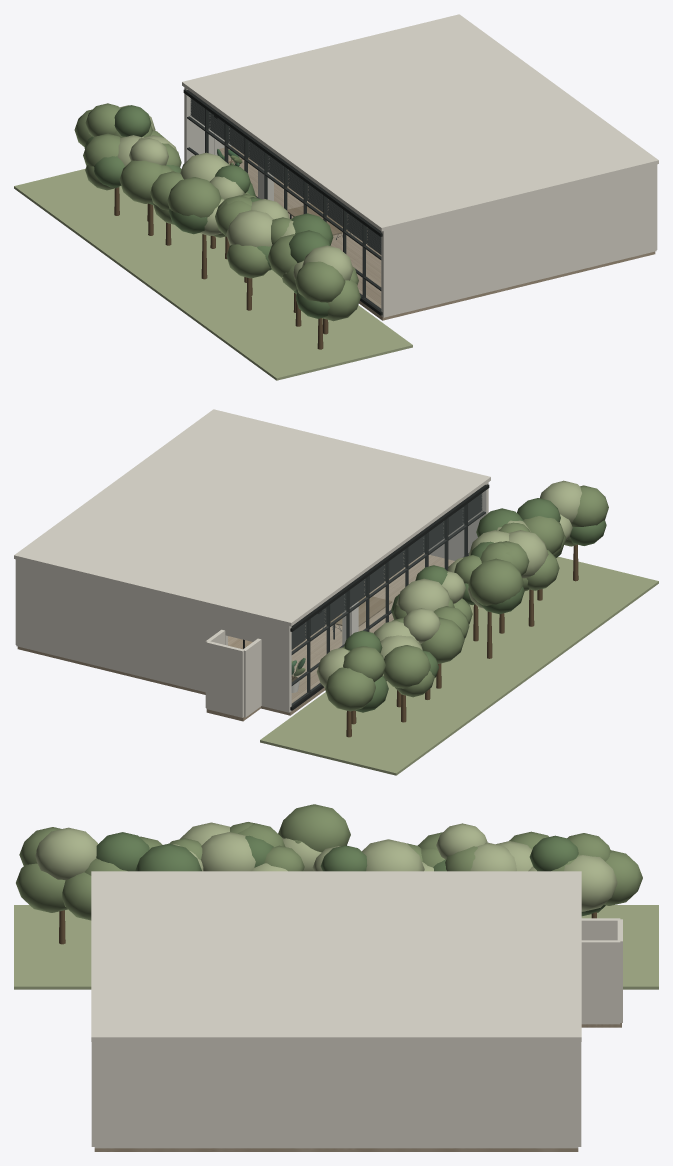
The model's file is office.glb.
3 views of the same model, one above another, from view 1: azimuth 30°, elevation 25°; view 2: azimuth 150°, elevation 25°; view 3: azimuth 270°, elevation 25° (orthographic). The views are drawn at different scales.
Visible parts, largest first — view 1: Warm white plaster, Exterior green 2, Exterior green 1, Glazing (×9), Charcoal powder-coated steel (×2), Exterior green 3, Pale timber plank flooring, Plant stems; view 2: Warm white plaster, Exterior green 2, Exterior green 1, Glazing (×10), Charcoal powder-coated steel (×2), Exterior green 3, Pale timber plank flooring, Plant stems, Natural ash desktop; view 3: Warm white plaster, Exterior green 2, Exterior green 1, Exterior green 3, Pale timber plank flooring.
Part boxes in pixels (x1,y1,x2,y2): Warm white plaster: (182,14,658,317); Exterior green 2: (14,105,412,380); Exterior green 1: (74,103,360,321); Glazing (×9): (187,96,380,309); Charcoal powder-coated steel (×2): (183,89,382,315); Exterior green 3: (84,105,333,318); Pale timber plank flooring: (219,146,655,320); Plant stems: (114,187,328,349); Warm white plaster: (14,409,490,717); Exterior green 2: (260,480,658,775); Exterior green 1: (325,485,608,711); Glazing (×10): (292,491,485,704); Charcoal powder-coated steel (×2): (290,484,489,710); Exterior green 3: (344,498,606,712); Pale timber plank flooring: (17,553,454,721); Plant stems: (346,544,578,737); Natural ash desktop: (330,596,392,626); Warm white plaster: (91,871,622,1148); Exterior green 2: (14,822,658,989); Exterior green 1: (16,804,642,920); Exterior green 3: (96,832,605,916); Pale timber plank flooring: (94,1023,621,1151).
Size of the model in its own units: 18.2 by 4.26 by 20.
59 materials, 2 textured.
